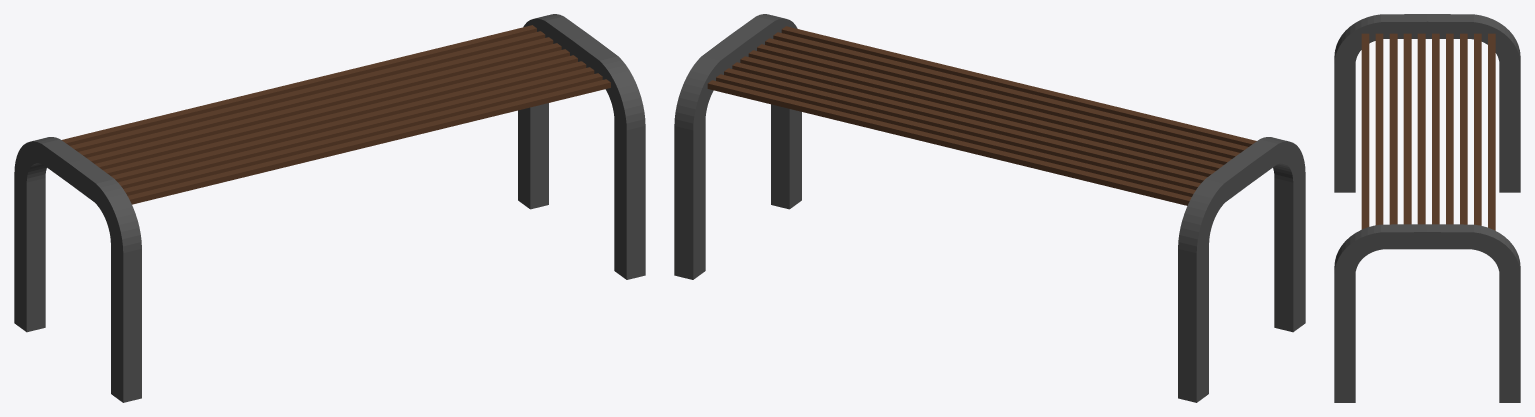
Rendered from ЖД вокзал скамейка.fbx.
3 views of the same model, side by side, from view 1: azimuth 30°, elevation 25°; view 2: azimuth 150°, elevation 25°; view 3: azimuth 270°, elevation 25° (orthographic). The views are drawn at different scales.
Parts seen in each view (by area): view 1: Cube.053; view 2: Cube.053; view 3: Cube.053.
Boxes of the visible parts, bbox=[...] form: Cube.053: bbox=[14, 14, 645, 402]; Cube.053: bbox=[674, 14, 1305, 402]; Cube.053: bbox=[1334, 14, 1520, 402].
Bounding box in the file's own units: 347 × 127 × 125.
